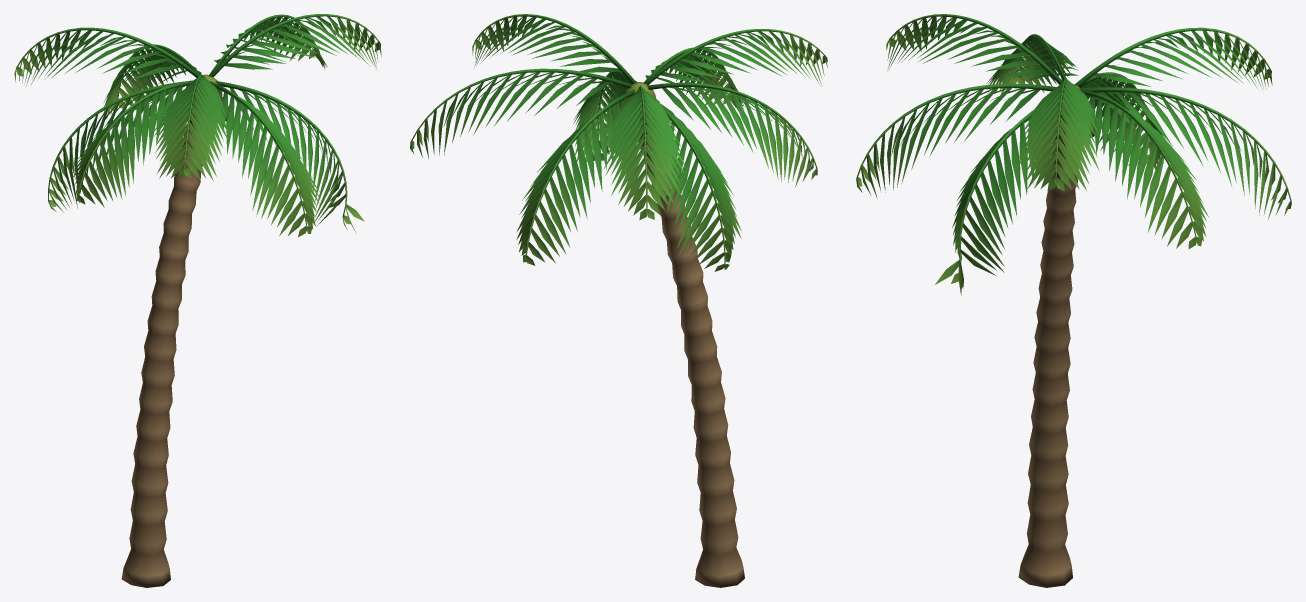
The model's file is palm_tree.glb.
3 renders of one model, left to right at view 1: azimuth 30°, elevation 25°; view 2: azimuth 150°, elevation 25°; view 3: azimuth 270°, elevation 25°, orthographic. The views are drawn at different scales.
Visible parts, largest first — view 1: palm_tree; view 2: palm_tree; view 3: palm_tree.
Part boxes in pixels (x1=…): palm_tree: x1=14, y1=14, x2=381, y2=587; palm_tree: x1=410, y1=14, x2=827, y2=587; palm_tree: x1=856, y1=14, x2=1291, y2=587.
Size of the model in its own units: 5.34 by 8.21 by 5.66.
